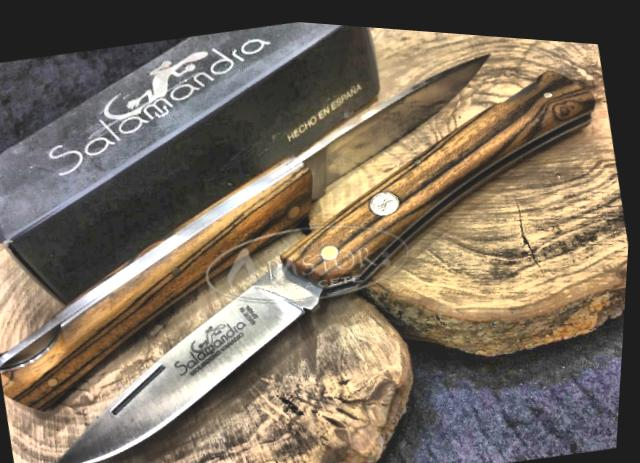knife: (6, 217, 365, 463), (276, 28, 527, 216)
